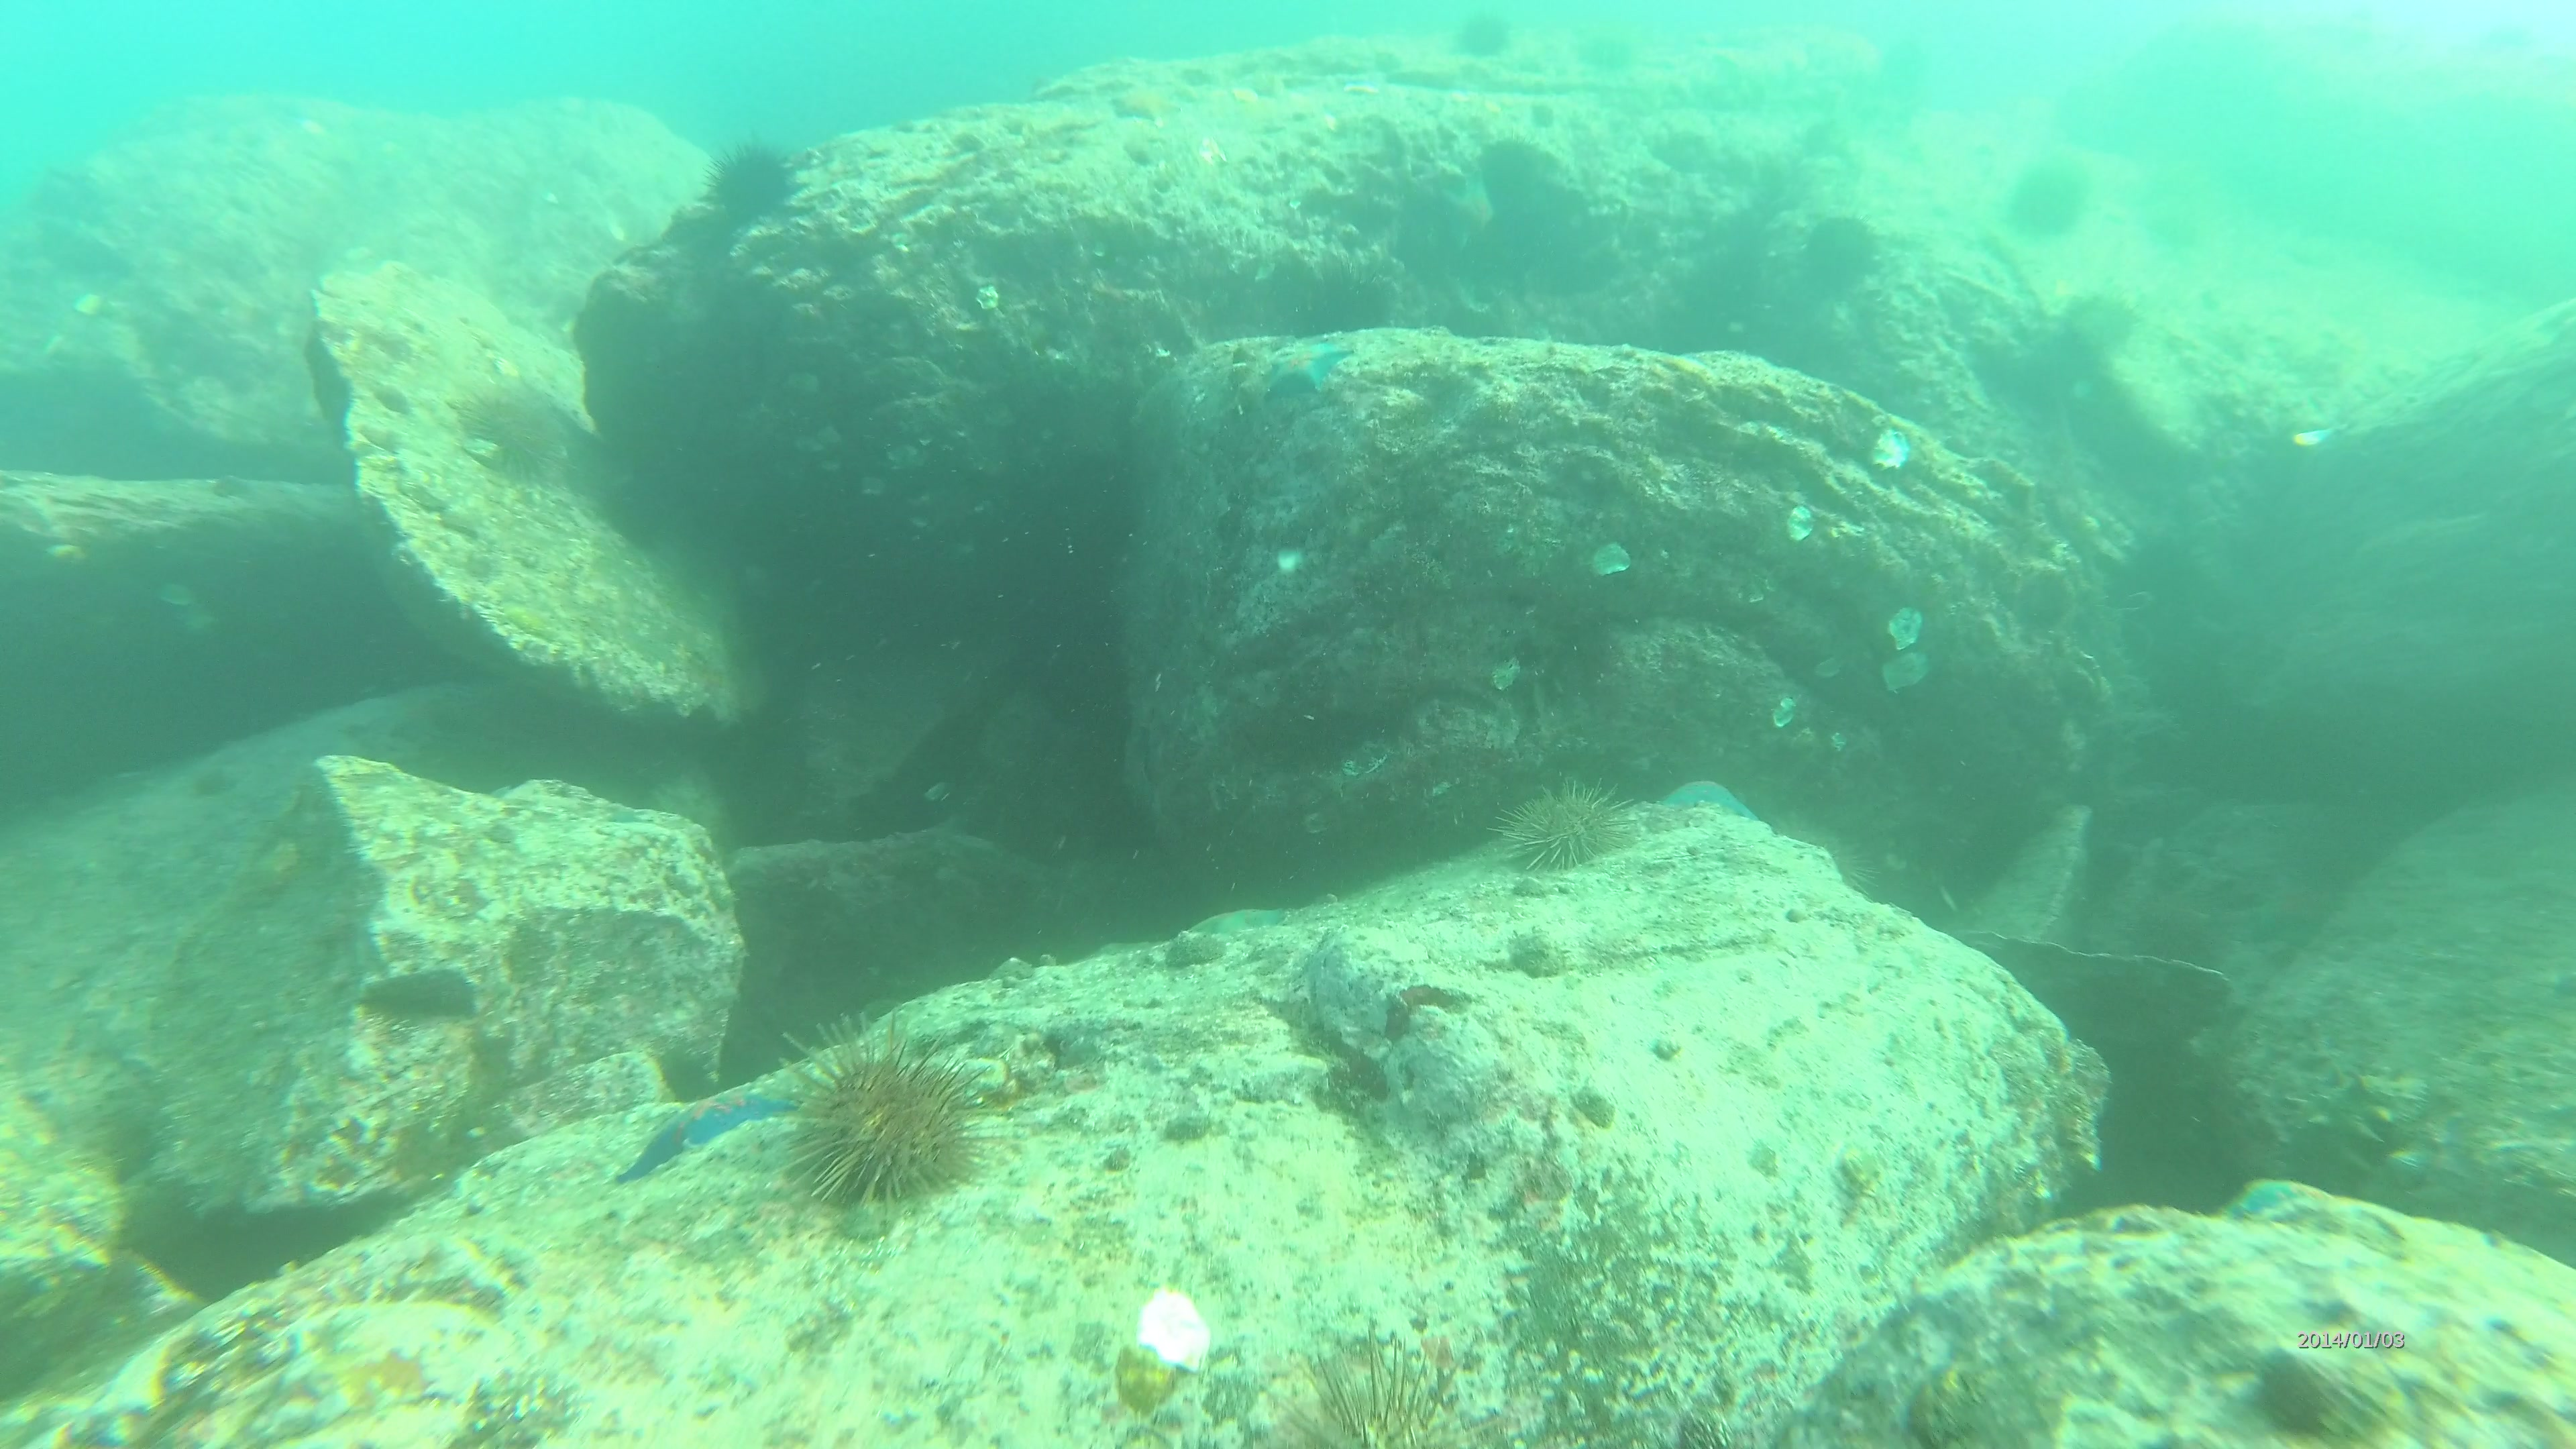echinus: (800, 1028, 989, 1214), (1297, 1361, 1491, 1449), (1500, 778, 1640, 872), (455, 396, 571, 479), (708, 145, 796, 230), (1805, 216, 1884, 287), (2065, 294, 2137, 359), (2015, 172, 2084, 239)
starfish: (628, 1074, 794, 1185), (2240, 1166, 2401, 1237), (1260, 338, 1350, 410)
